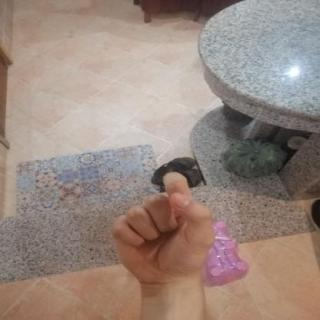FAA: (98, 163, 224, 295)
